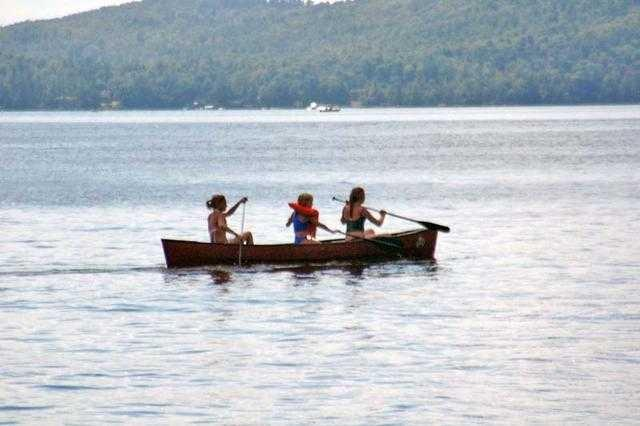kayak: (161, 223, 449, 267)
